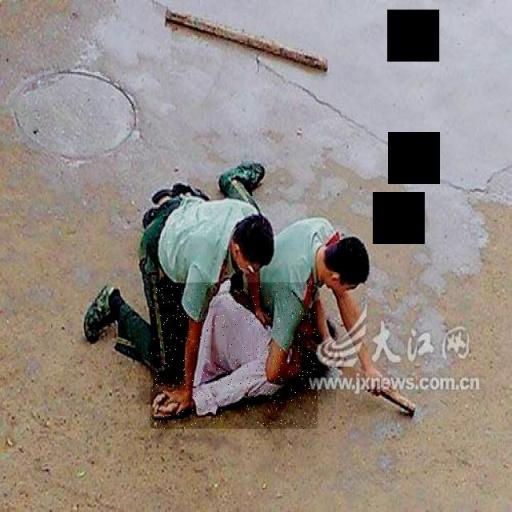Fall: (151, 282, 318, 429)
